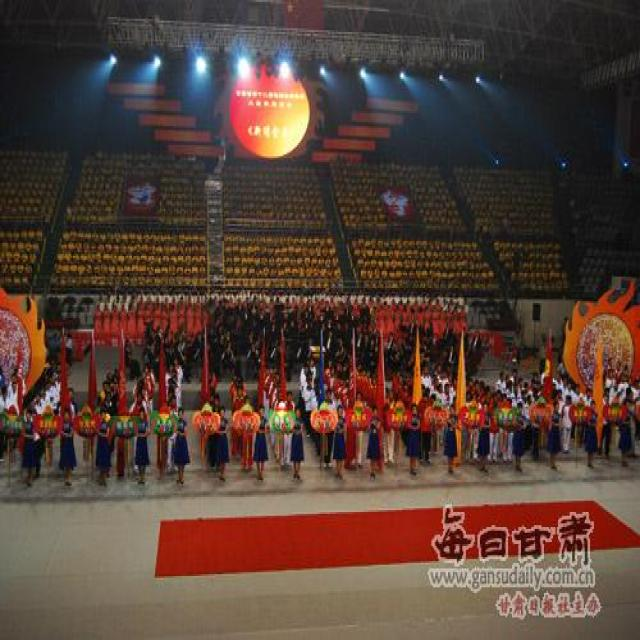non-fight: (512, 392, 539, 472), (622, 382, 639, 458)
